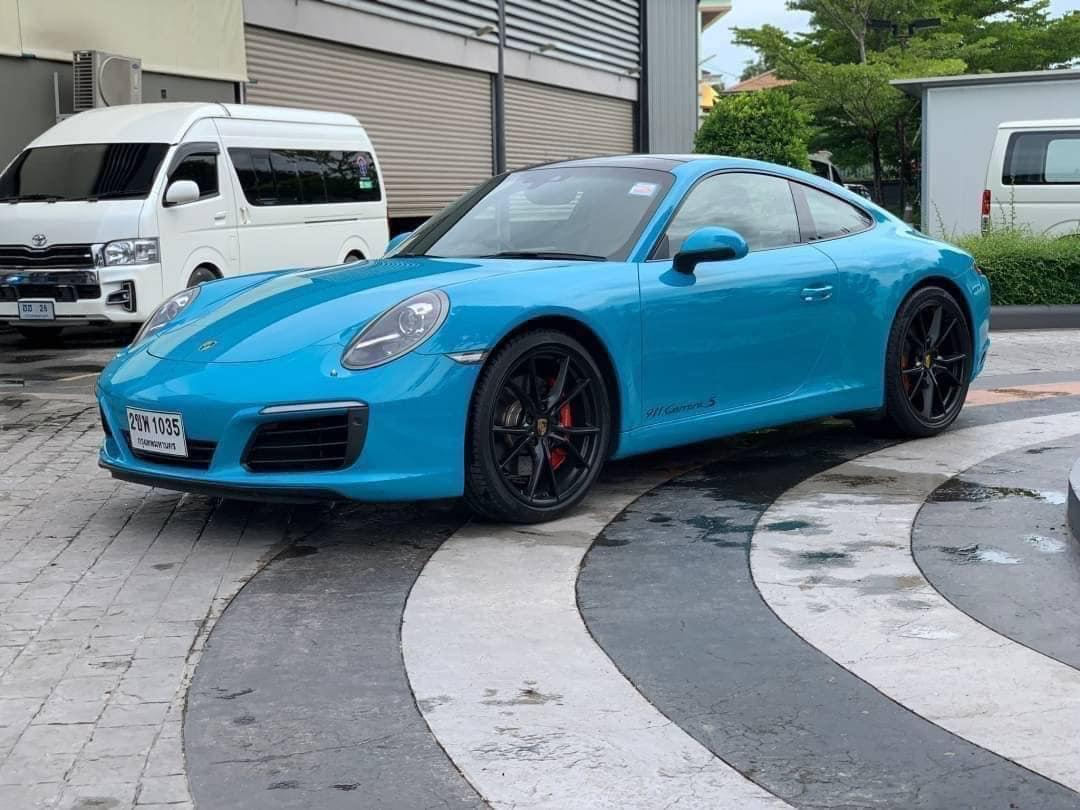license-plate: (120, 402, 200, 468)
